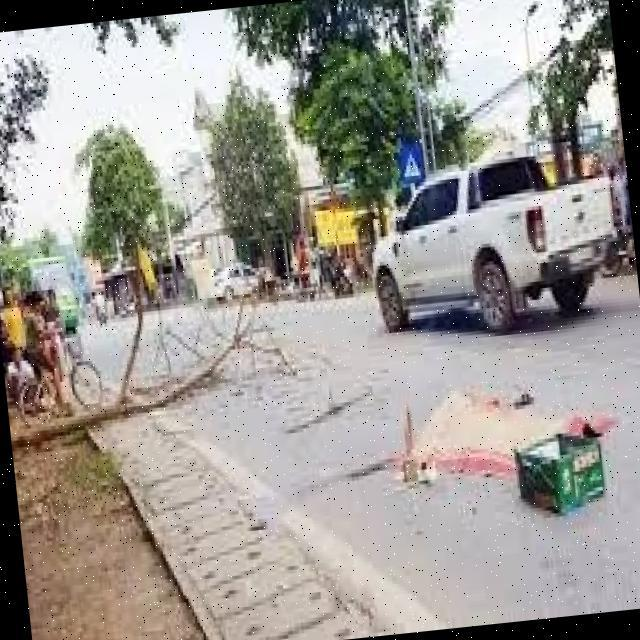fallen_object: (0, 267, 339, 479)
